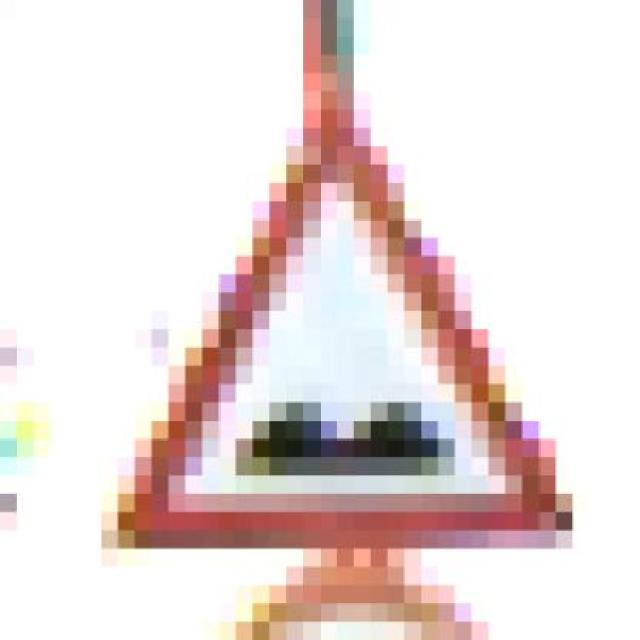Uneven Road: (101, 91, 590, 567)
